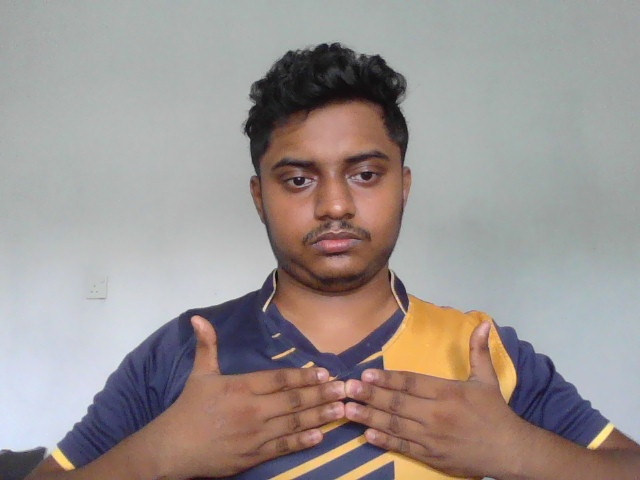Thank You: (179, 308, 510, 477)
